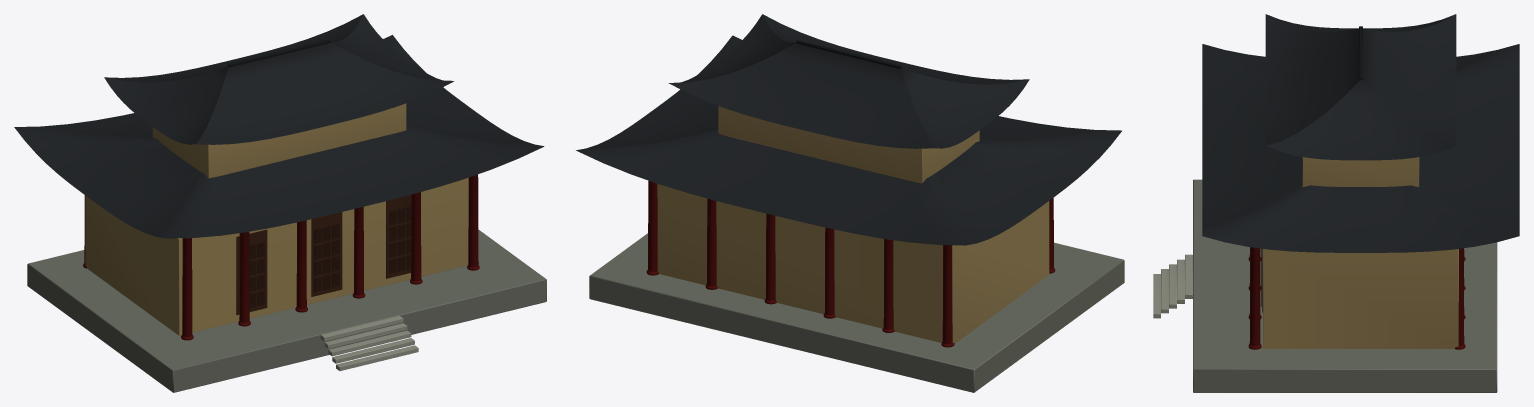
File: hz-hall-temple.glb
3 renders of one model, left to right at view 1: azimuth 30°, elevation 25°; view 2: azimuth 150°, elevation 25°; view 3: azimuth 270°, elevation 25°, orthographic. The views are drawn at different scales.
Parts seen in each view (by area): view 1: roof__tile, terrace__stone, walls__plaster, doors__wood, columns__lacquer; view 2: roof__tile, walls__plaster, terrace__stone, columns__lacquer; view 3: roof__tile, terrace__stone, walls__plaster, columns__lacquer.
Part boxes in pixels (<box>): roof__tile: <box>14,14,544,238</box>; terrace__stone: <box>27,229,546,392</box>; walls__plaster: <box>85,103,468,335</box>; doors__wood: <box>236,195,411,315</box>; columns__lacquer: <box>83,174,479,340</box>; roof__tile: <box>576,14,1121,245</box>; walls__plaster: <box>657,106,1049,343</box>; terrace__stone: <box>589,233,1124,392</box>; columns__lacquer: <box>646,180,1055,347</box>; roof__tile: <box>1202,14,1519,252</box>; terrace__stone: <box>1153,179,1497,392</box>; walls__plaster: <box>1263,157,1458,348</box>; columns__lacquer: <box>1248,247,1465,349</box>.
Size of the model in its own units: 17.2 by 10.28 by 13.85.
